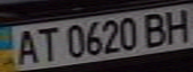0: (63, 21, 87, 59), (118, 15, 142, 52)
2: (100, 17, 124, 55)
6: (84, 19, 106, 57)
A: (9, 26, 42, 65)
B: (139, 10, 172, 47)
H: (160, 7, 193, 44)
T: (33, 25, 60, 62)
